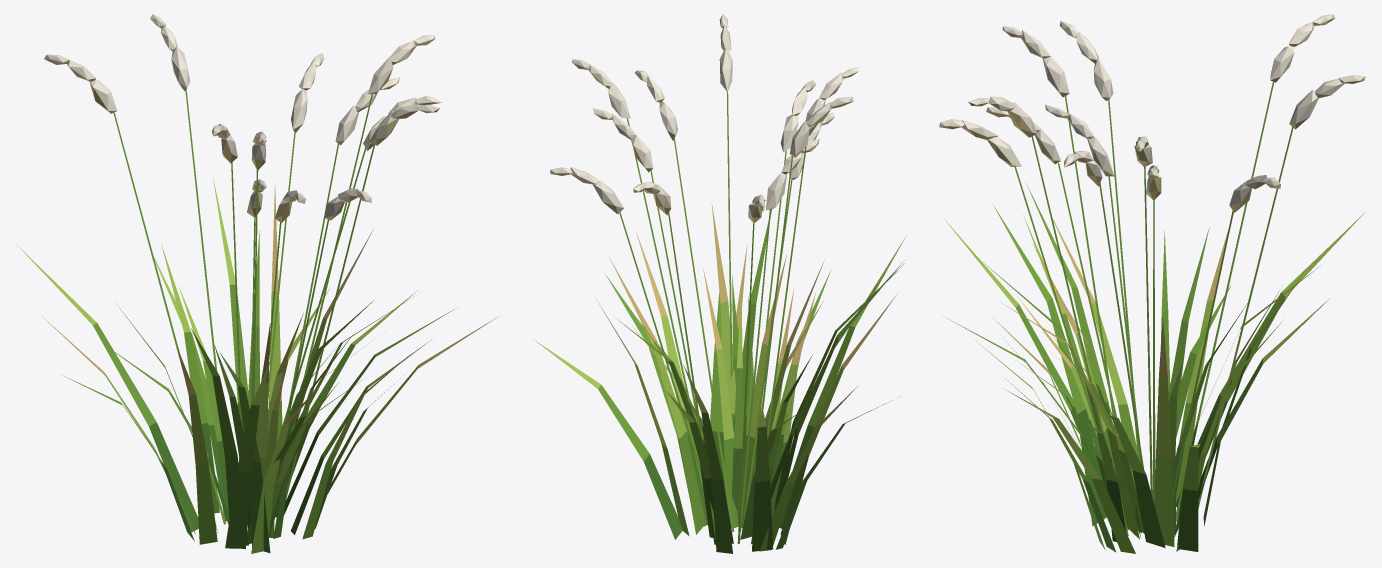
Rendered from G05_TalahibInBloomTall.glb.
3 views of the same model, side by side, from view 1: azimuth 30°, elevation 25°; view 2: azimuth 150°, elevation 25°; view 3: azimuth 270°, elevation 25° (orthographic). The views are drawn at different scales.
Parts seen in each view (by area): view 1: G05_TalahibInBloomTall; view 2: G05_TalahibInBloomTall; view 3: G05_TalahibInBloomTall.
Part boxes in pixels (left/top/right/bottom): G05_TalahibInBloomTall: left=15, top=14, right=498, bottom=553; G05_TalahibInBloomTall: left=533, top=14, right=905, bottom=553; G05_TalahibInBloomTall: left=939, top=14, right=1365, bottom=553.
Size of the model in its own units: 2.9 by 3.38 by 2.72.
